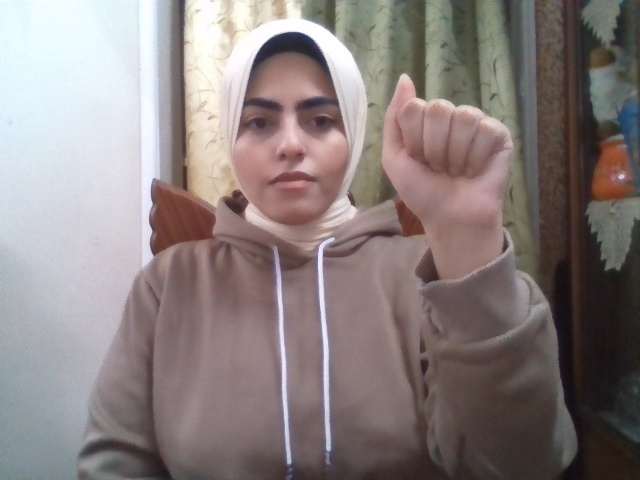A: (381, 72, 512, 230)
